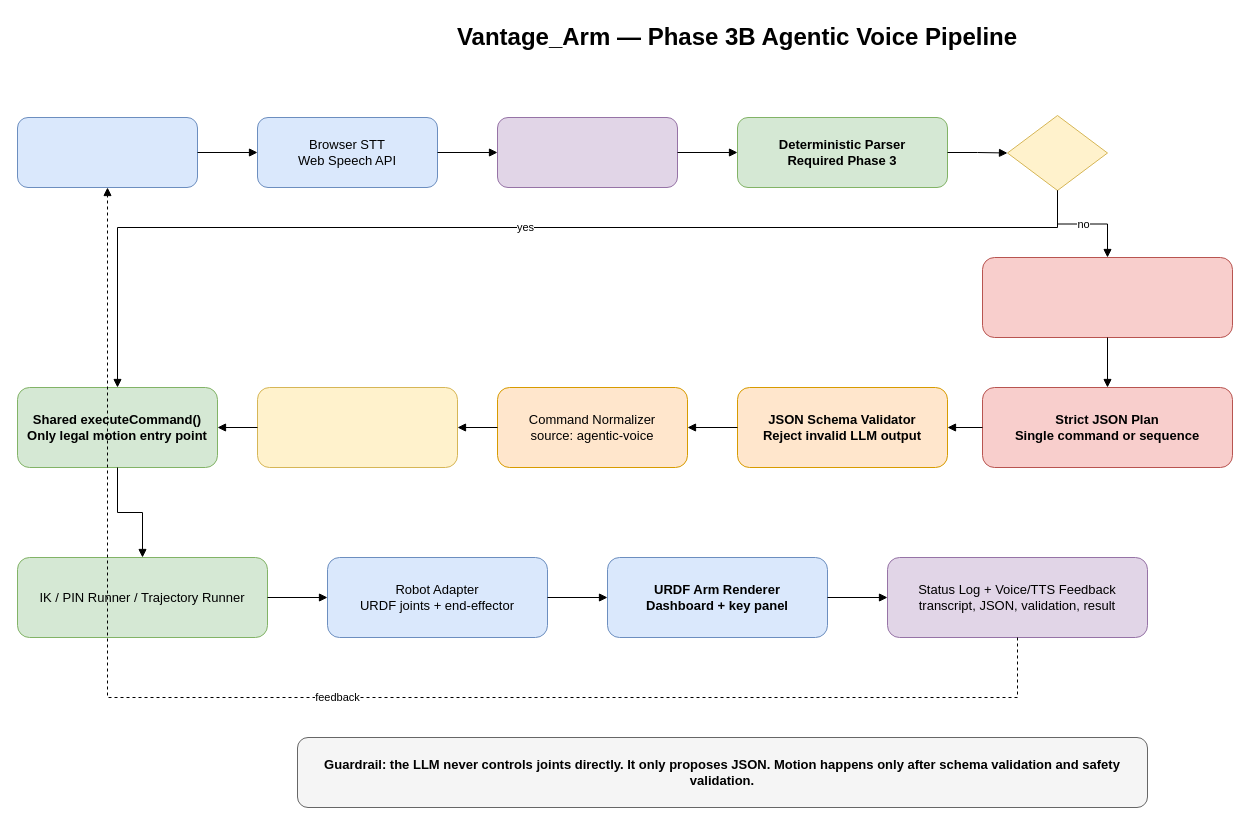
Some shapes in this 1250 by 825 pixel diagram are drawn without their labels. The box of each missing label's shape, as (x1, y1, x2, y2) in pixels:
Agentic Parser API Gemini / Groq / OpenAI text model: (982, 256, 1232, 338)
Handled?: (1006, 114, 1108, 190)
Safety Validator workspace, keys, PIN, joints, limits: (256, 386, 458, 468)
Transcript Text: (496, 116, 678, 188)
Voice / Typed Input: (16, 116, 198, 188)
